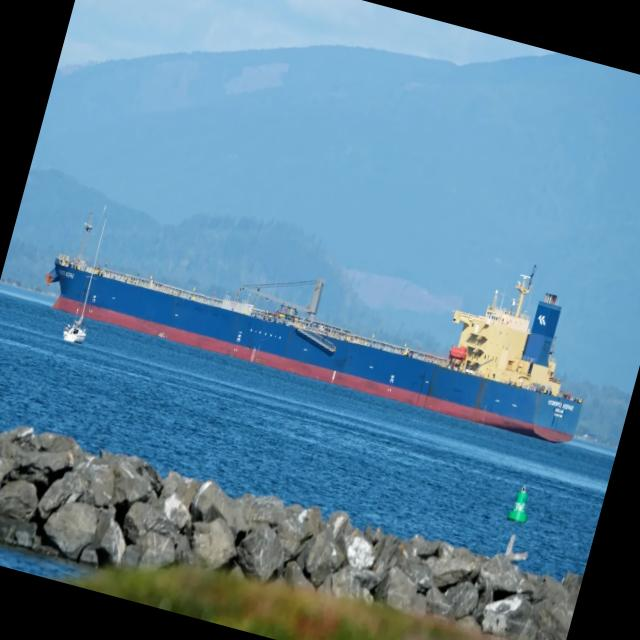Tanker: (46, 254, 581, 442)
